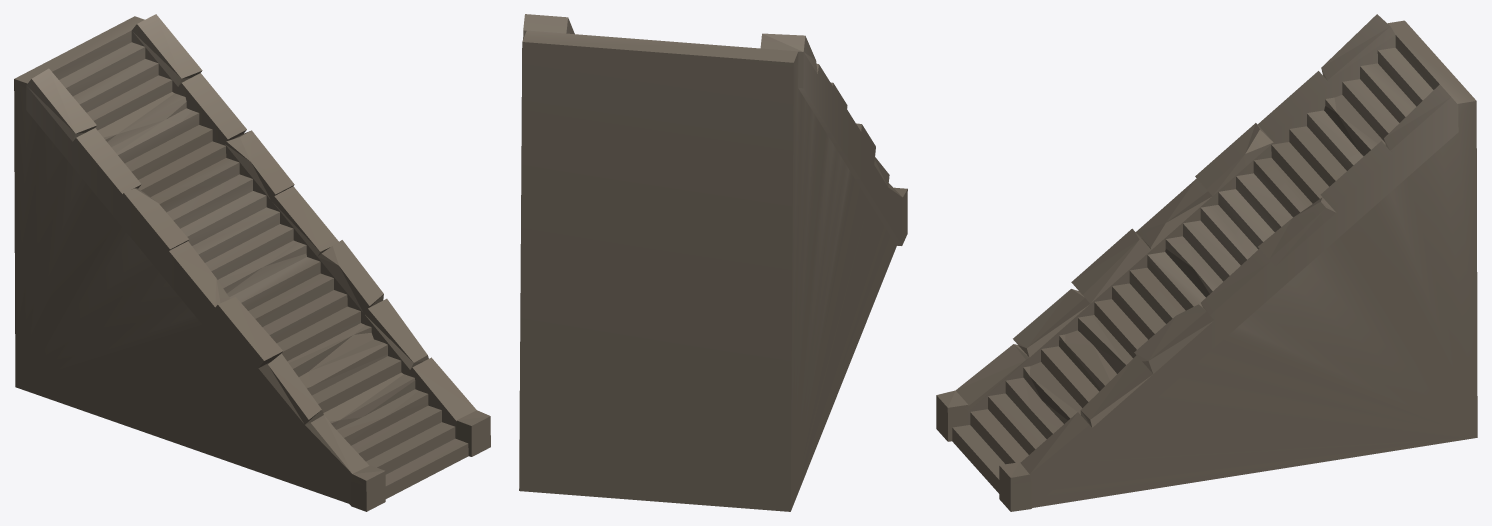
File: Stairs_Long.fbx
3 renders of one model, left to right at view 1: azimuth 30°, elevation 25°; view 2: azimuth 150°, elevation 25°; view 3: azimuth 270°, elevation 25°, orthographic. The views are drawn at different scales.
Visible parts, largest first — view 1: Stairs_Mid, Stairs_SideB, Stairs_SideA; view 2: Stairs_Mid, Stairs_SideB, Stairs_SideA; view 3: Stairs_Mid, Stairs_SideA, Stairs_SideB.
Boxes of the visible parts, box(x1,y1,x2,y2) form: Stairs_Mid: box(14, 16, 468, 503); Stairs_SideB: box(26, 68, 385, 511); Stairs_SideA: box(131, 14, 490, 456); Stairs_Mid: box(519, 30, 896, 511); Stairs_SideB: box(760, 33, 907, 245); Stairs_SideA: box(523, 14, 574, 39); Stairs_Mid: box(952, 20, 1477, 507); Stairs_SideA: box(999, 84, 1458, 511); Stairs_SideB: box(936, 14, 1395, 441).
Bounding box in the file's own units: 9.01 × 9.28 × 13.14.
Materials: 1 (1 with a texture image).
